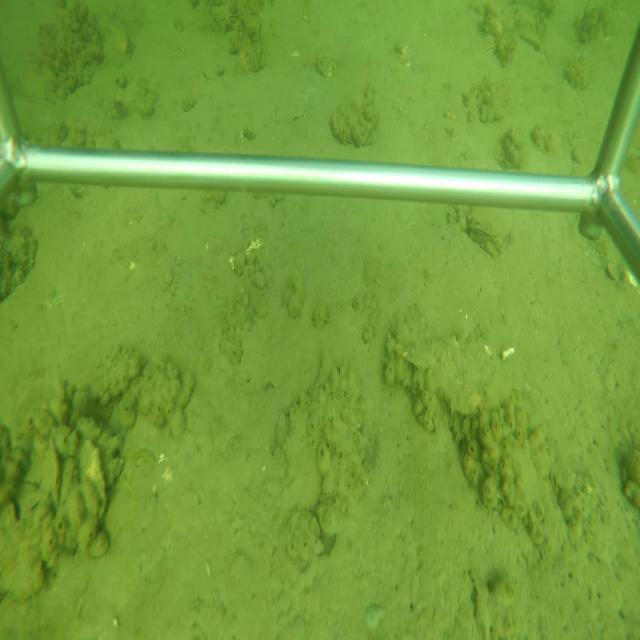Oyster-Closed: (461, 212, 508, 249), (241, 9, 265, 74)
Oyster-Indeterminate: (81, 438, 110, 532)
